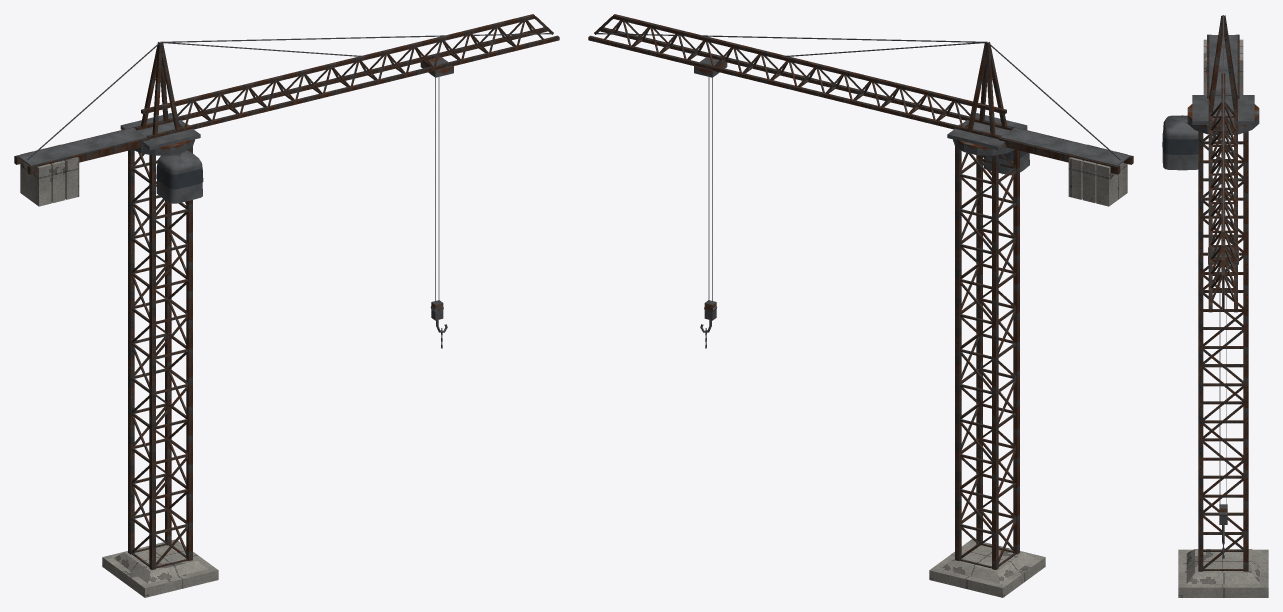
File: crane.glb
3 renders of one model, left to right at view 1: azimuth 30°, elevation 25°; view 2: azimuth 150°, elevation 25°; view 3: azimuth 270°, elevation 25°, orthographic. The views are drawn at different scales.
Visible parts, largest first — view 1: detail, tower-col; view 2: detail, tower-col; view 3: detail, tower-col.
Boxes of the visible parts, x1,y1,x2,y2 form: detail: (14, 14, 559, 568); tower-col: (102, 147, 218, 597); detail: (588, 14, 1133, 568); tower-col: (929, 147, 1045, 597); detail: (1162, 15, 1259, 570); tower-col: (1178, 131, 1268, 597).
Size of the model in its own units: 23.04 by 22.02 by 3.76.
Materials: 6 (6 with a texture image).
